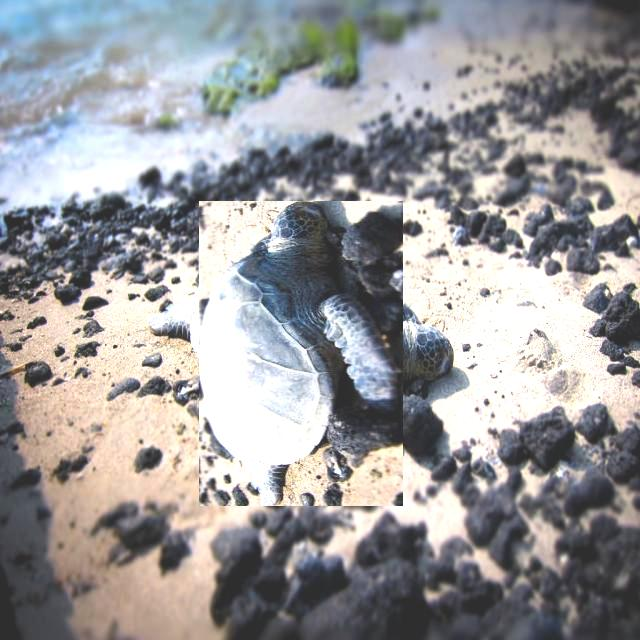Sea turtle: (174, 226, 428, 481)
